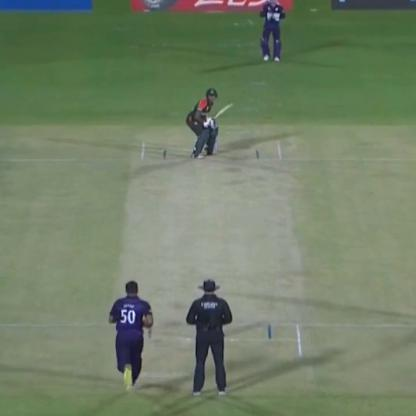bat: (201, 97, 241, 122)
pitch: (122, 136, 310, 379)
